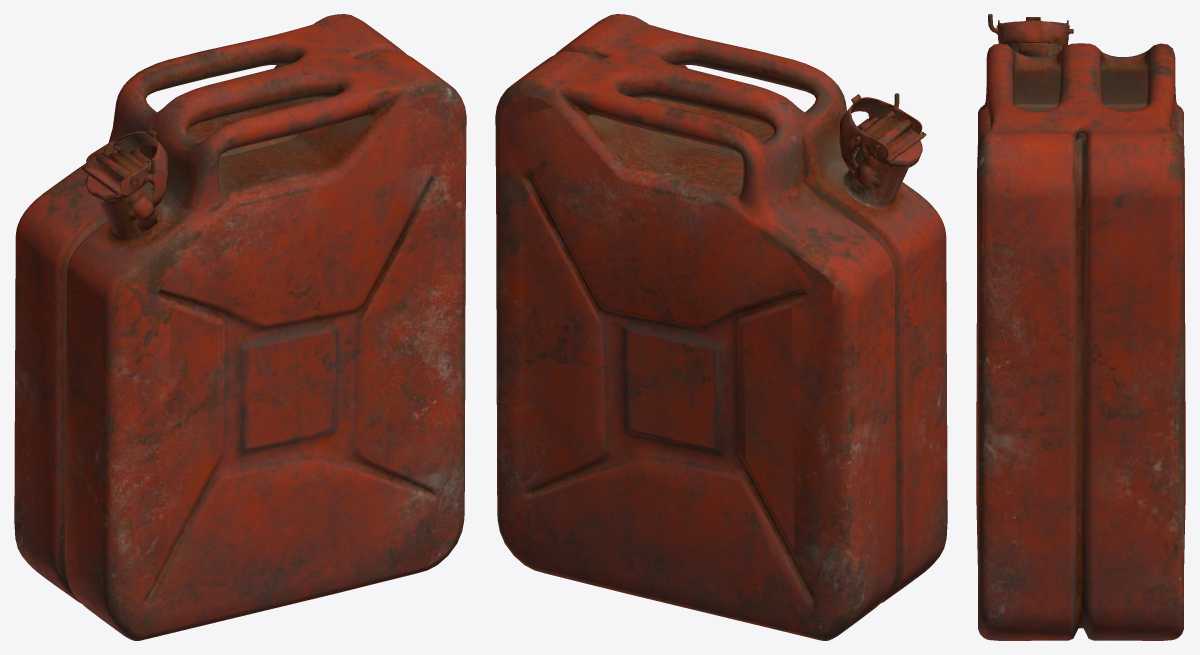
Rendered from item_fuelcan.glb.
The picture shows the model from 3 angles, left to right: view 1: azimuth 30°, elevation 25°; view 2: azimuth 150°, elevation 25°; view 3: azimuth 270°, elevation 25°; orthographic projection. The views are drawn at different scales.
Parts seen in each view (by area): view 1: body; view 2: body; view 3: body.
Part boxes in pixels (left/top/right/bottom): body: left=14, top=14, right=466, bottom=640; body: left=495, top=14, right=947, bottom=640; body: left=976, top=14, right=1185, bottom=640.
Size of the model in its own units: 0.3505 by 0.4552 by 0.1719.
1 material, 1 textured.
